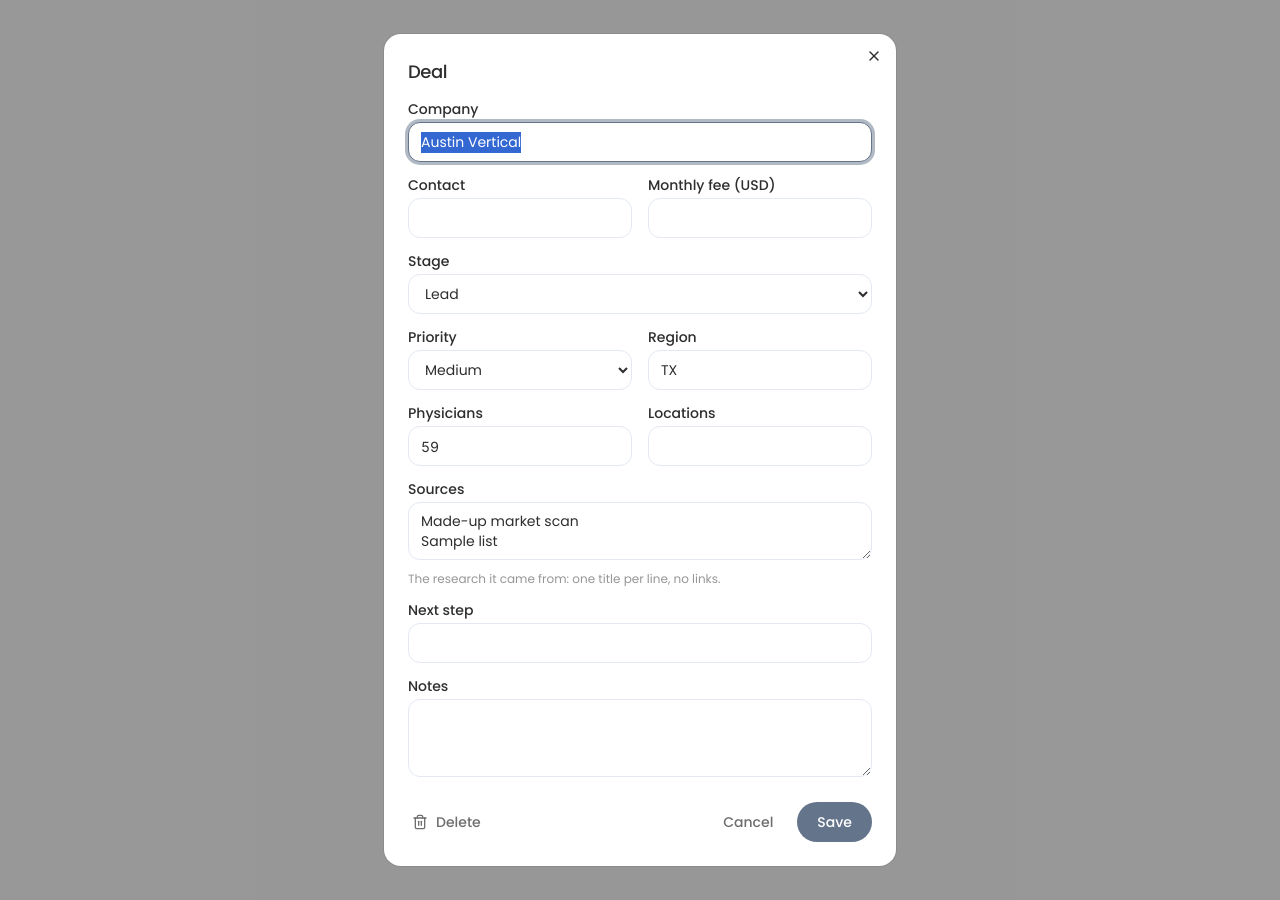
Test: CardEditor: a deal's details › a count that is not a whole number is said, and nothing is sent
This screenshot has width=1280, height=900.
Replace the text in the field labelled "Physicians" with "about 60" at x=520, y=446, box [408, 426, 632, 466]
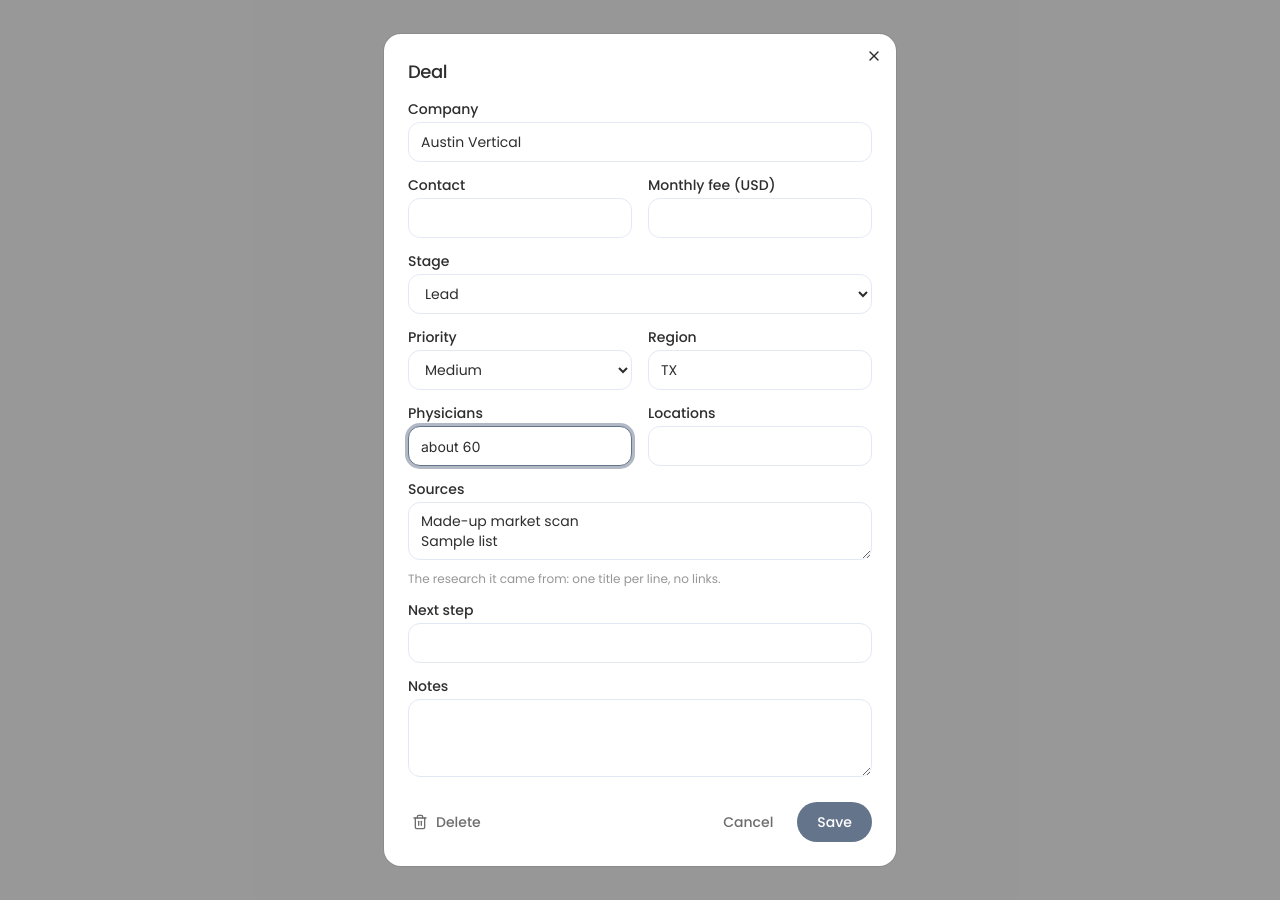
Click the button "Save" at x=835, y=822, box [797, 802, 872, 842]
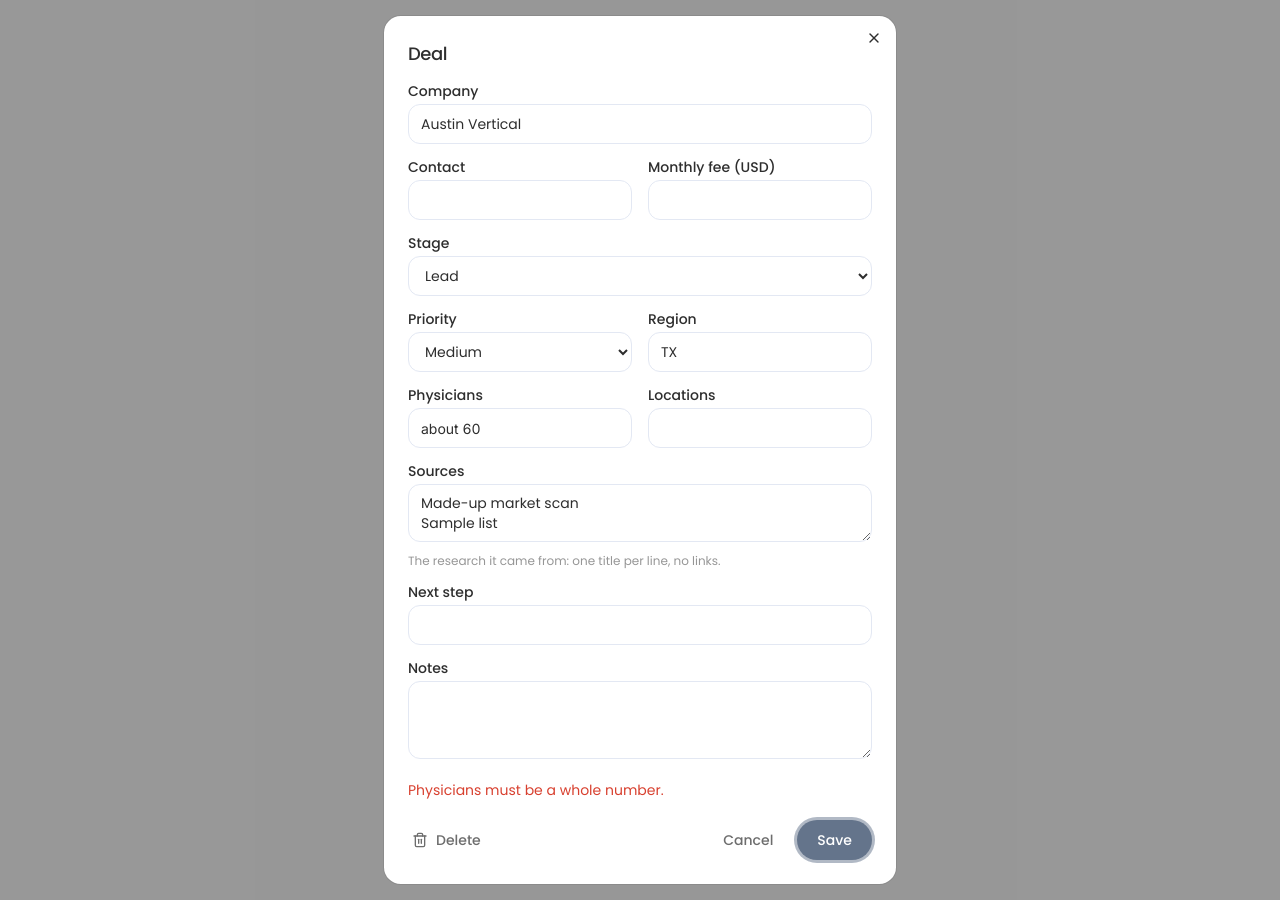
Now the message reads "Physicians must be a whole number.", box [408, 780, 664, 800]
